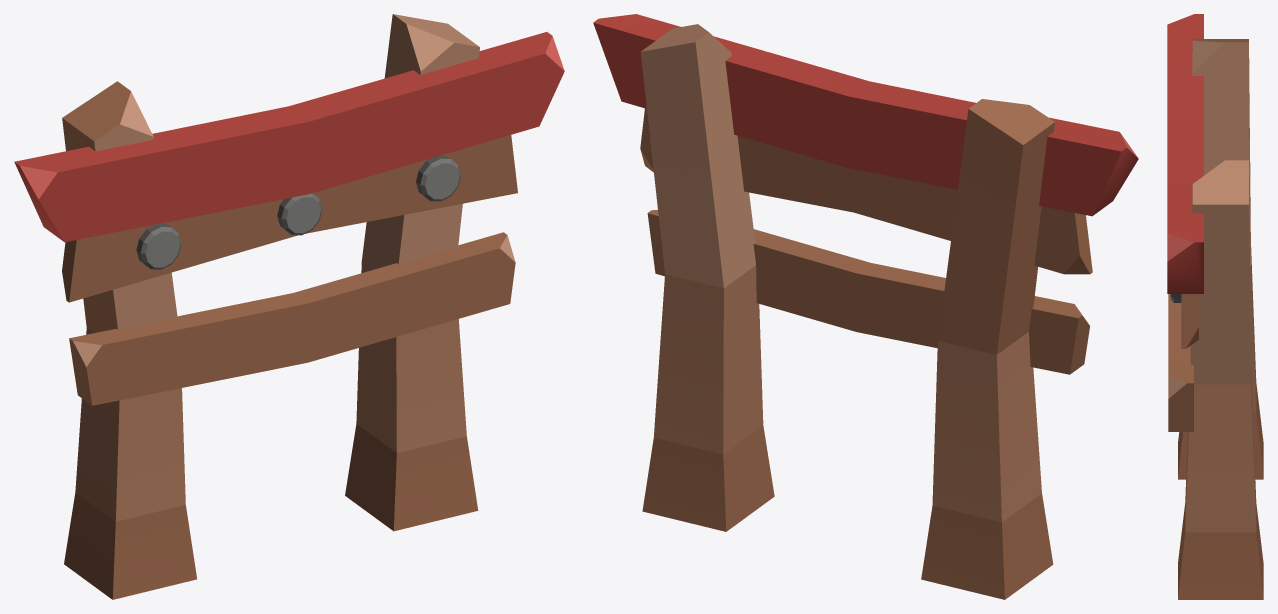
File: torii_6.fbx
3 renders of one model, left to right at view 1: azimuth 30°, elevation 25°; view 2: azimuth 150°, elevation 25°; view 3: azimuth 270°, elevation 25°, orthographic. The views are drawn at different scales.
Parts seen in each view (by area): view 1: torii_6; view 2: torii_6; view 3: torii_6.
Part boxes in pixels (bbox=[...]): torii_6: bbox=[14, 14, 564, 599]; torii_6: bbox=[593, 14, 1138, 599]; torii_6: bbox=[1167, 14, 1263, 599].
Bounding box in the file's own units: 319 × 274 × 56.92.
